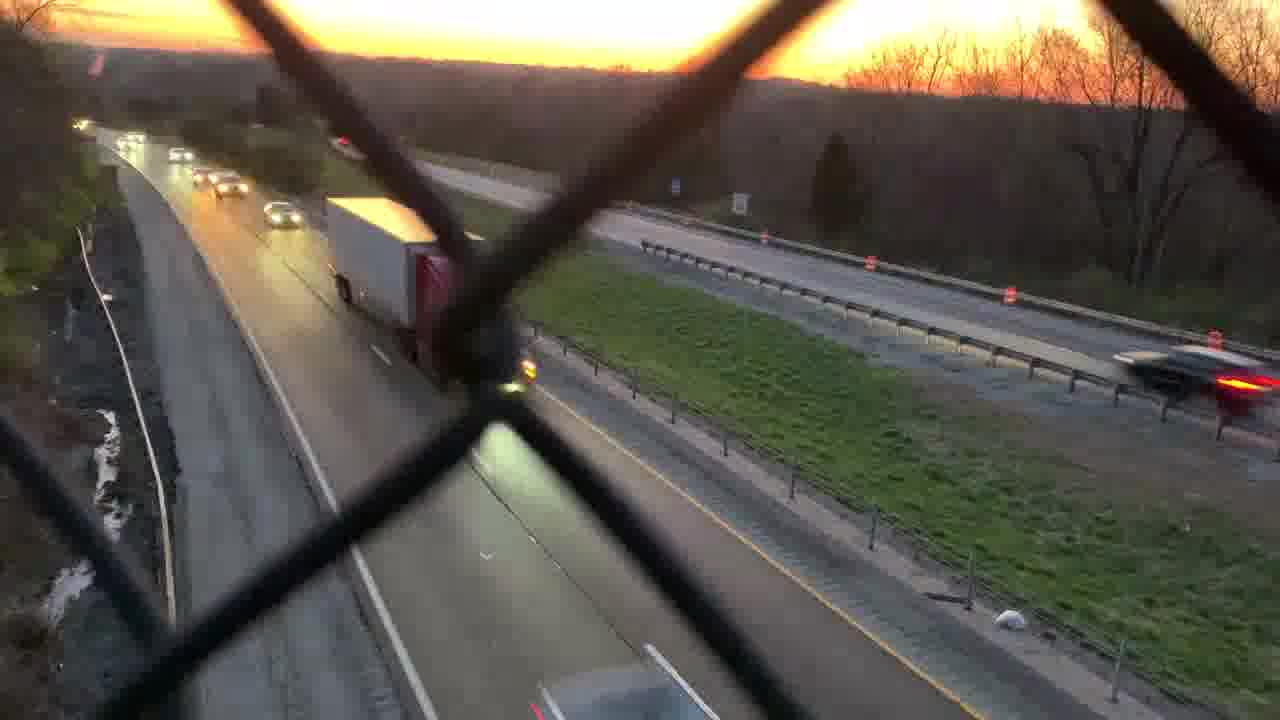heavyTruck: (326, 192, 542, 390)
smallCar: (261, 197, 304, 228)
